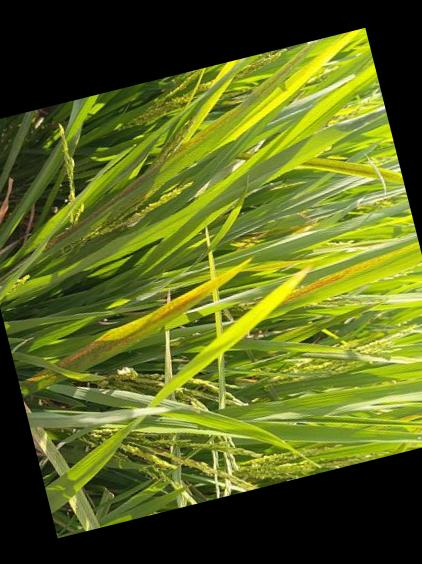Leaf Streak: (43, 41, 318, 250), (53, 258, 247, 372), (287, 263, 364, 299), (18, 367, 65, 391)
